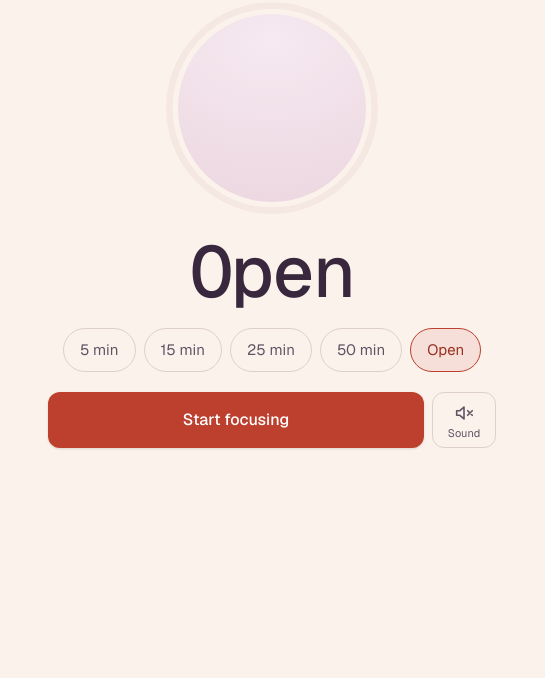
it: FocusTimer career scene › shows the cat keeping you company for the whole session, in the app or out
What coordinates should you click on to do the following:
click the button "Start focusing"
I would click on:
 (236, 420)
Its box is [48,392,424,448].
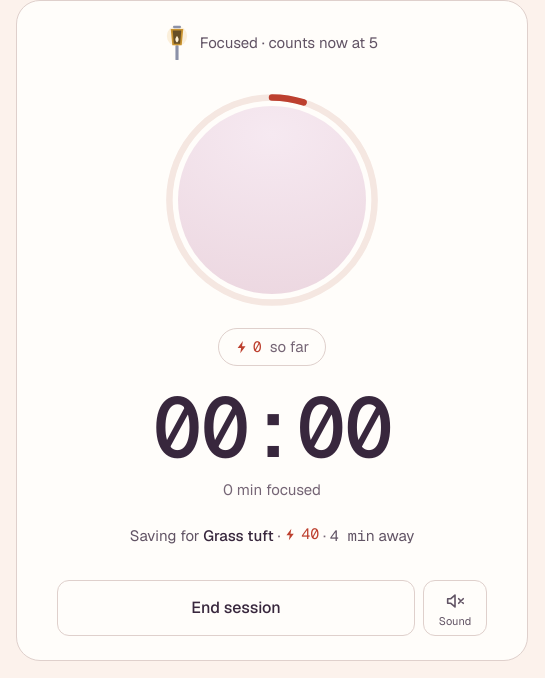
expect the picture named "Toast is keeping you company." is shown: met, box [178,106,366,294]
